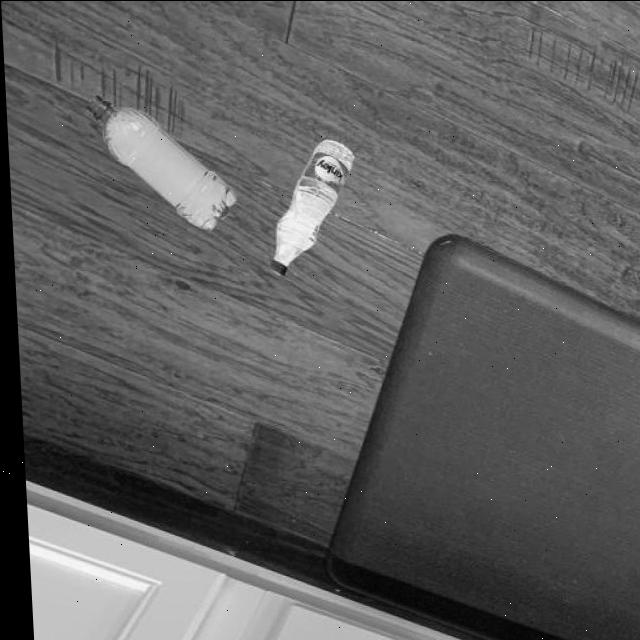bottle: (84, 94, 237, 232), (259, 138, 359, 278)
